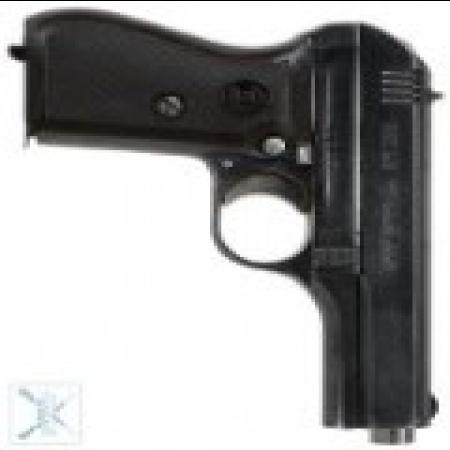Pistol: (22, 11, 446, 447)
